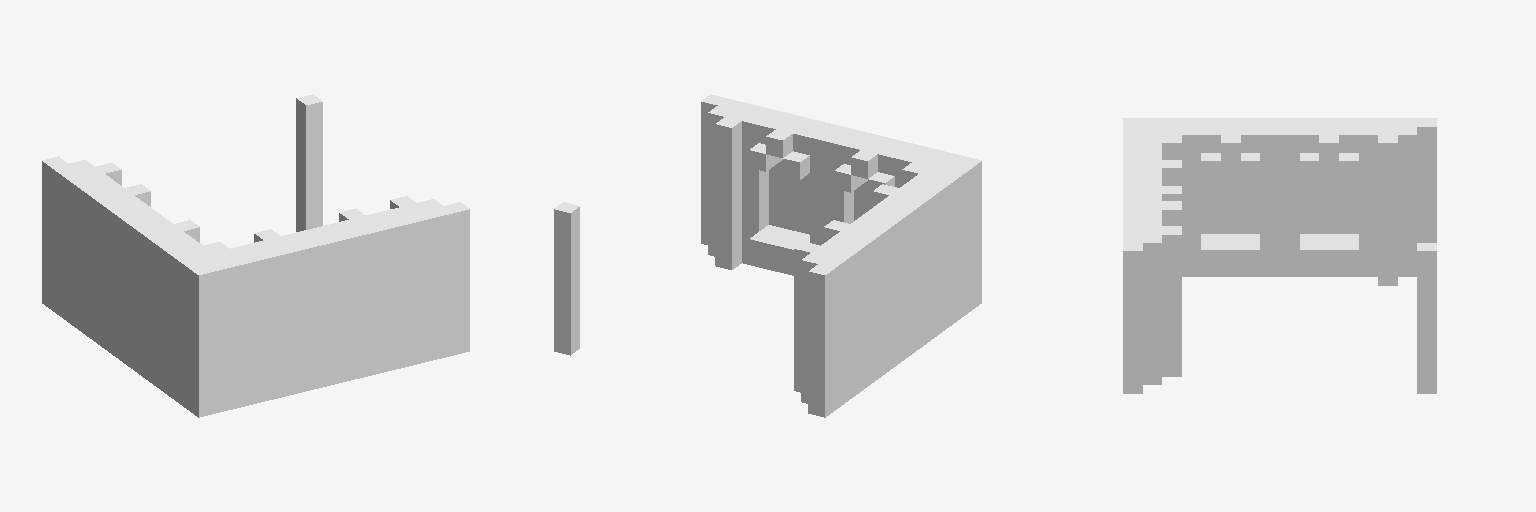
The model's file is towar-28.obj.
3 views of the same model, side by side, from view 1: azimuth 30°, elevation 25°; view 2: azimuth 150°, elevation 25°; view 3: azimuth 270°, elevation 25° (orthographic).
Visible parts, largest first — view 1: towar-28; view 2: towar-28; view 3: towar-28.
Boxes of the visible parts, box(x1,y1,x2,y2) form: towar-28: box(42, 94, 469, 417); towar-28: box(554, 94, 981, 417); towar-28: box(1123, 118, 1436, 393).
Bounding box in the file's own units: 16 × 8 × 16.